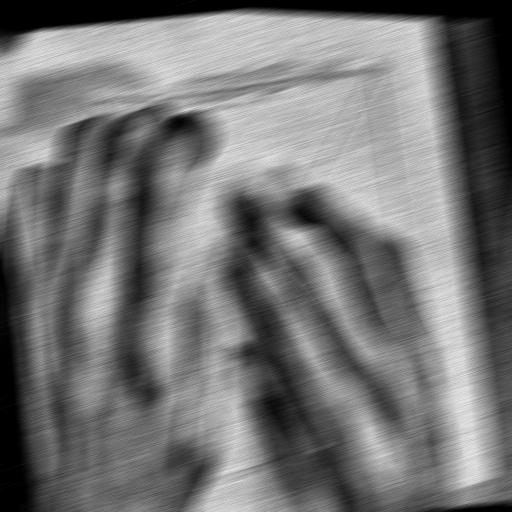bottom_right: (482, 465, 501, 482)
envelop: (79, 41, 452, 512)
